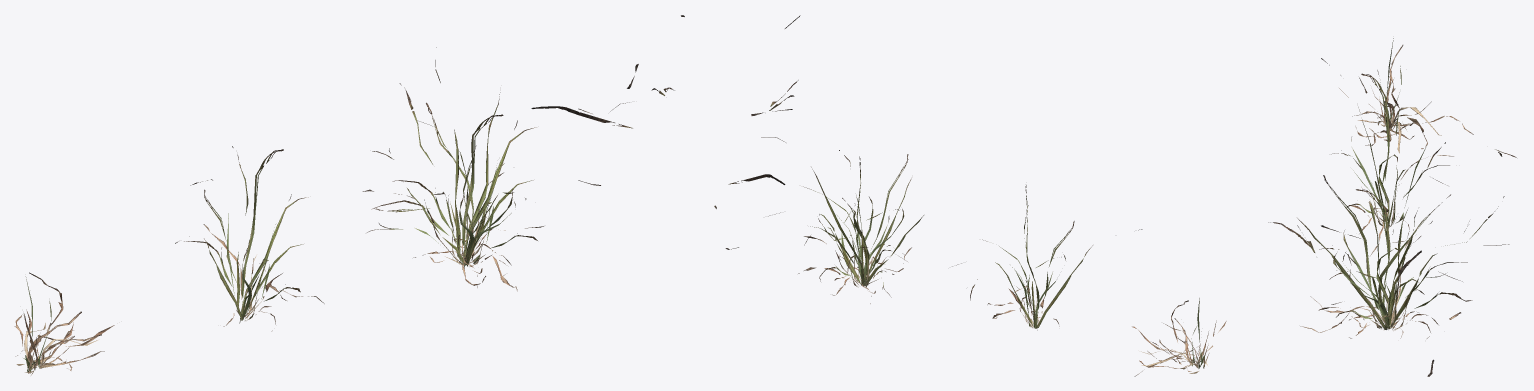
File: grass_medium_02.glb
3 renders of one model, left to right at view 1: azimuth 30°, elevation 25°; view 2: azimuth 150°, elevation 25°; view 3: azimuth 270°, elevation 25°, orthographic. The views are drawn at different scales.
Visible parts, largest first — view 1: grass_medium_02; view 2: grass_medium_02; view 3: grass_medium_02.
Part boxes in pixels (left/top/right/bottom): grass_medium_02: left=14, top=15, right=684, bottom=375; grass_medium_02: left=714, top=15, right=1226, bottom=376; grass_medium_02: left=1268, top=38, right=1516, bottom=376.
Size of the model in its own units: 1.32 by 0.55 by 0.5171.
Materials: 1 (1 with a texture image).
